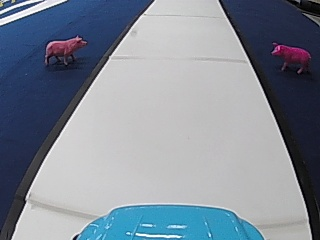pig: (42, 33, 87, 66), (268, 39, 311, 73)
